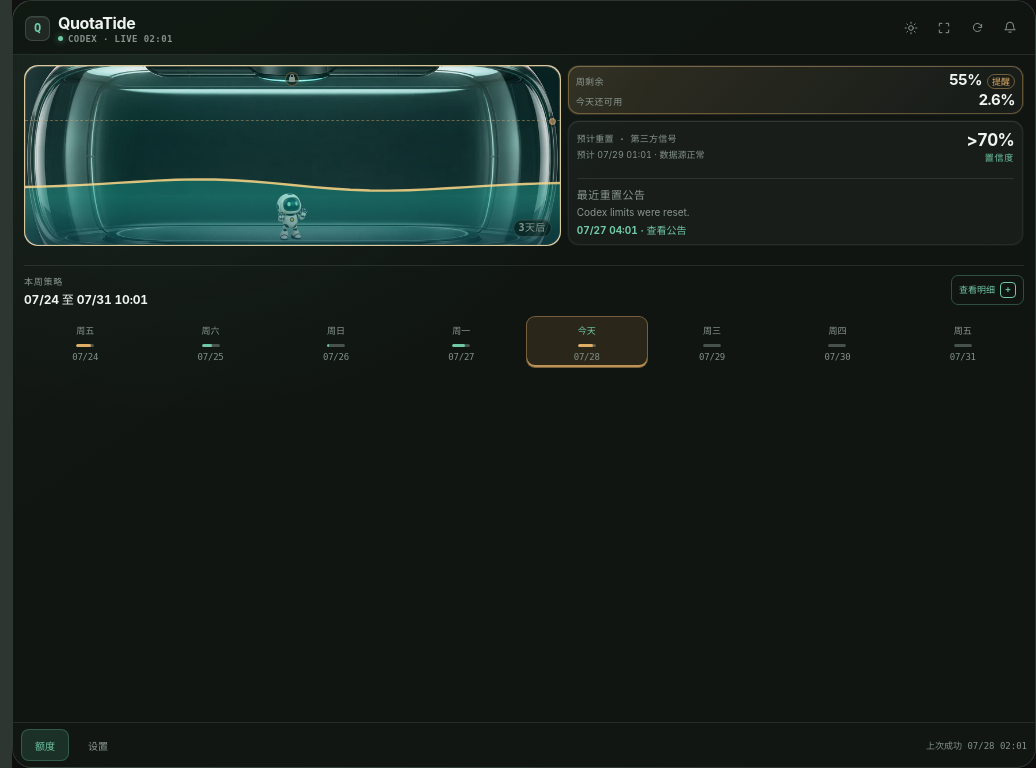
Test: keeps the warning overview stationary and day quota details above the footer
Expected: the element with class "ledger-content" is shown, [24,65,1024,374]
Expected: the footer with class "ledger-footer" is shown, [13,722,1035,767]
Hover over the text "今天" at (587, 330), box [578,324,596,337]
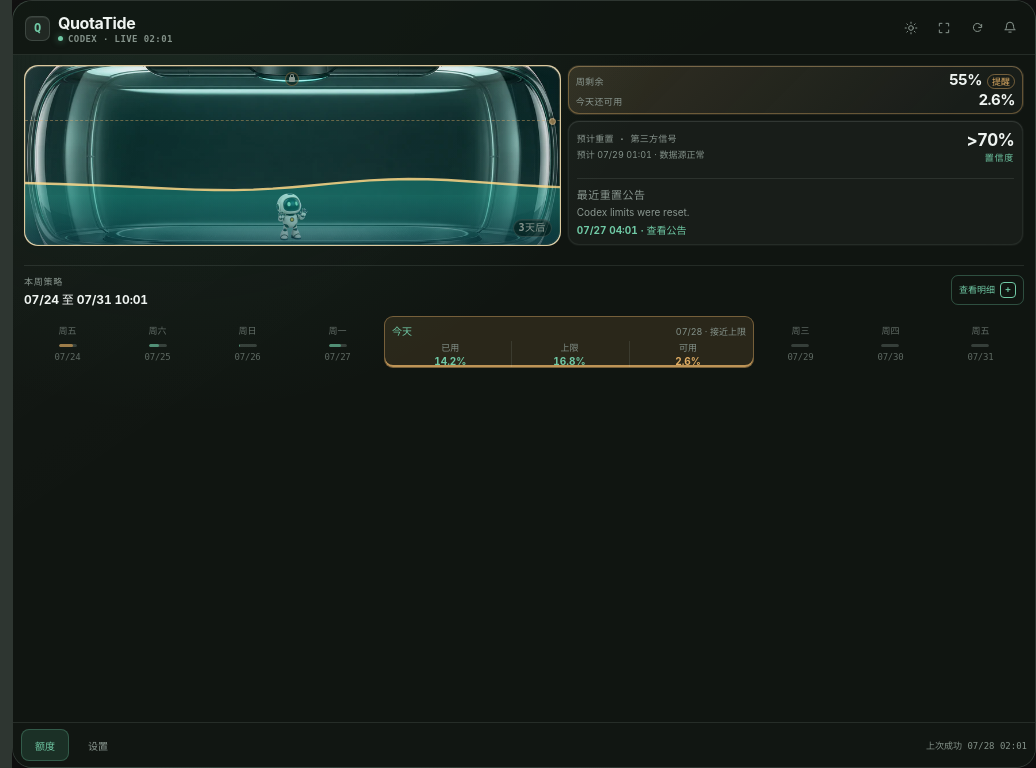
Expected: the tooltip with id "ledger-day-inspector" is shown, [392,323,746,367]
